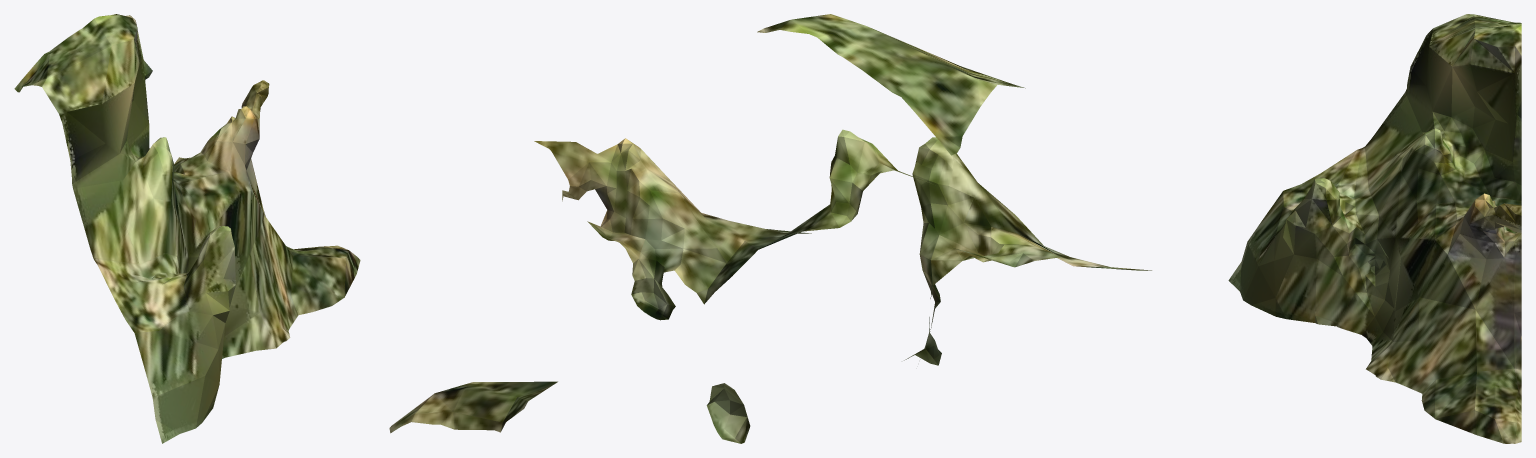
3 renders of one model, left to right at view 1: azimuth 30°, elevation 25°; view 2: azimuth 150°, elevation 25°; view 3: azimuth 270°, elevation 25°, orthographic. The views are drawn at different scales.
Size of the model in its own units: 1.67 by 1.42 by 1.27.
Materials: 3 (3 with a texture image).
